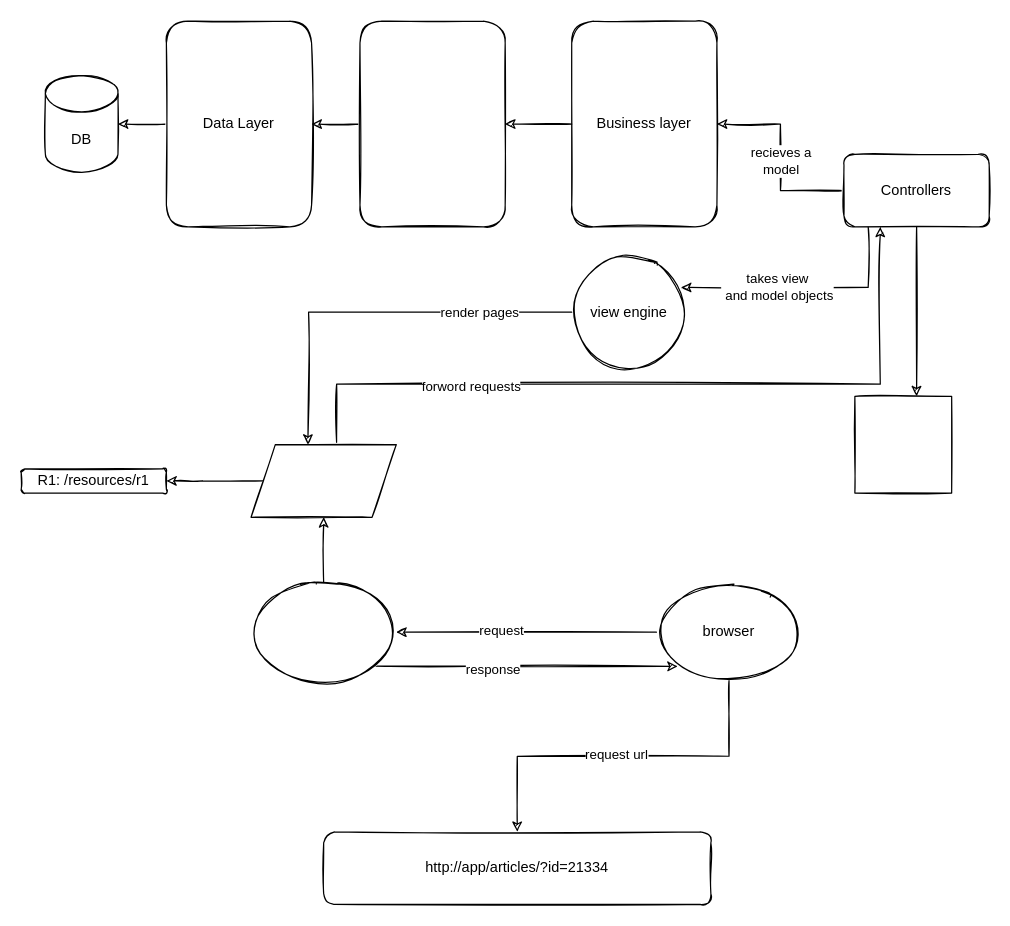
Image size: 1010x926. Some labels were removed from this diagram. The shapes that lost their labels are listed below. From the top down, each one's centre as x and y in pixels, then its label:
the point at 432,123: Data Access Layer
the point at 903,444: view
the point at 323,480: app:80
the point at 323,632: server
